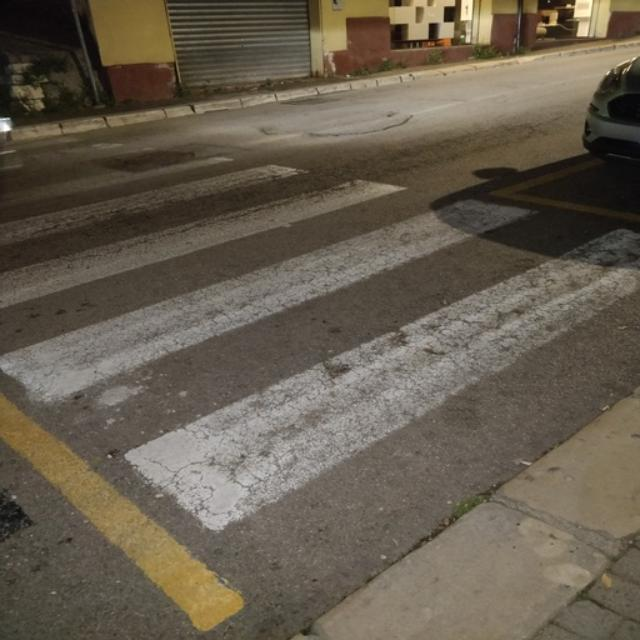sidewalk: (0, 133, 639, 534)
